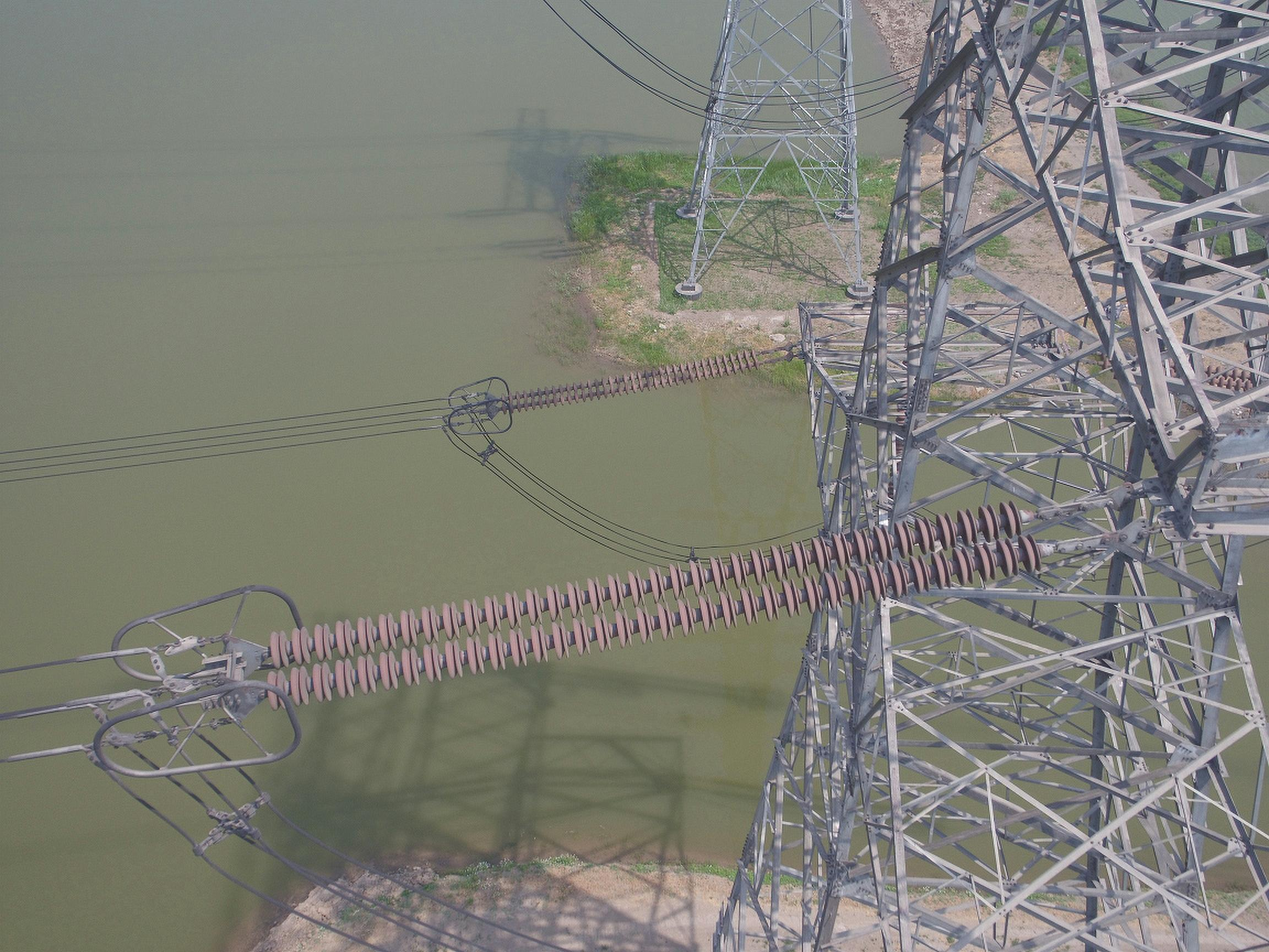insulator: (261, 497, 1048, 715), (497, 346, 762, 417), (1203, 363, 1257, 394)
